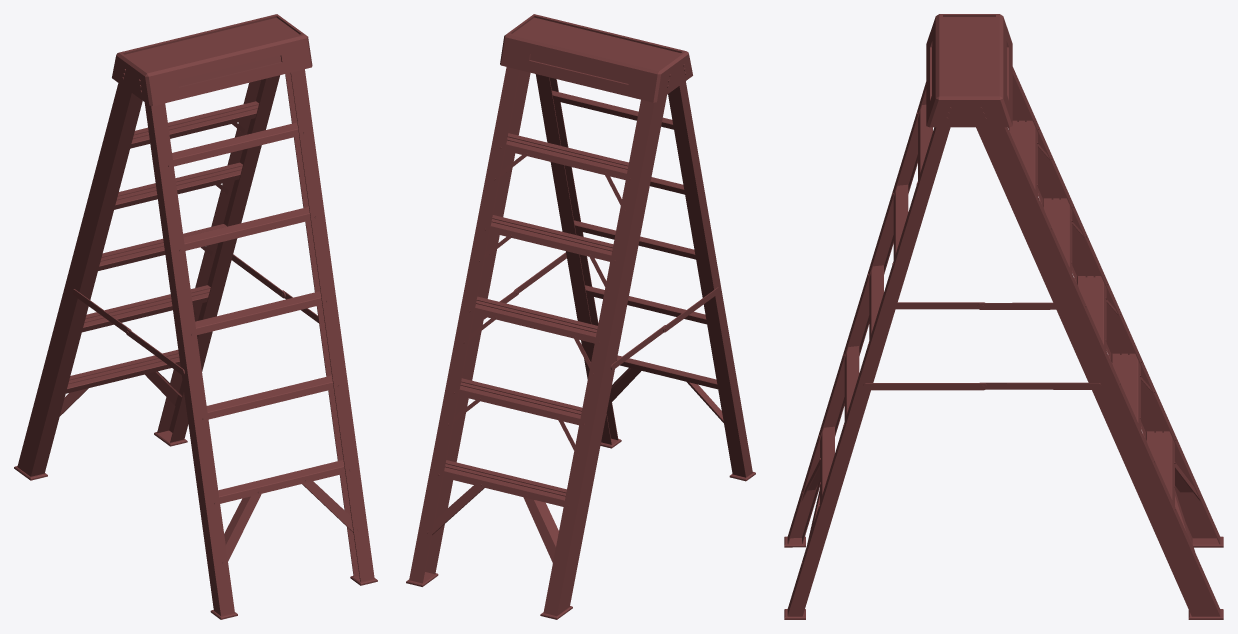
File: ladder.fbx
The picture shows the model from 3 angles, left to right: view 1: azimuth 30°, elevation 25°; view 2: azimuth 150°, elevation 25°; view 3: azimuth 270°, elevation 25°; orthographic projection. The views are drawn at different scales.
Parts seen in each view (by area): view 1: Ladder; view 2: Ladder; view 3: Ladder.
Part boxes in pixels (x1,y1,x2,y2): Ladder: (14,14,377,619); Ladder: (406,14,755,619); Ladder: (784,14,1223,619).
Size of the model in its own units: 70.67 by 202 by 154.
